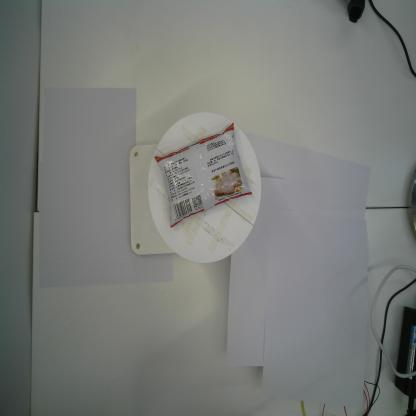Seasoner: (153, 120, 254, 230)
